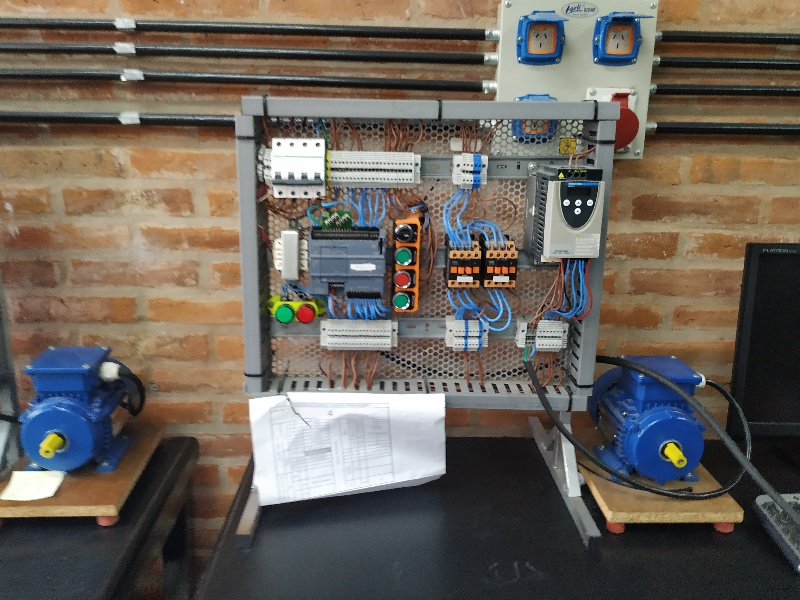Tablero 4: (249, 104, 605, 405)
